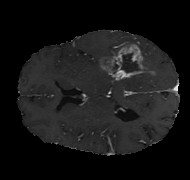Edema: (76, 32, 157, 79)
EnhancingTumors: (91, 43, 147, 74)
Necrosis: (95, 47, 139, 69)
